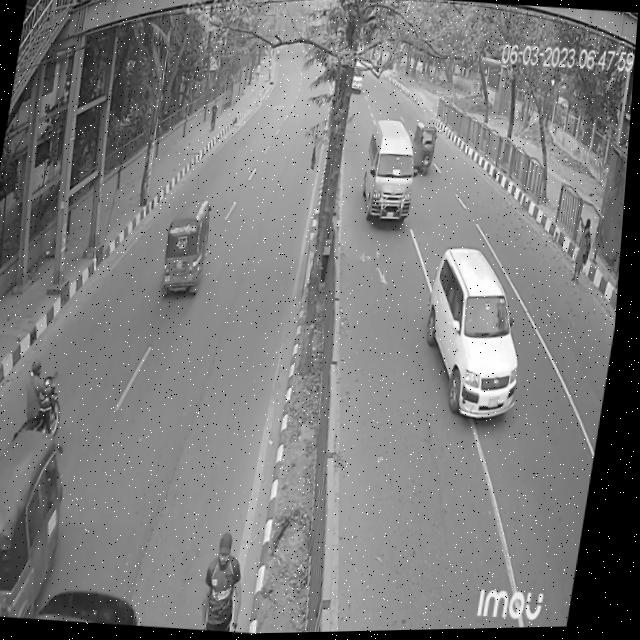cng: (0, 411, 91, 622), (162, 201, 220, 300), (410, 121, 444, 180)
